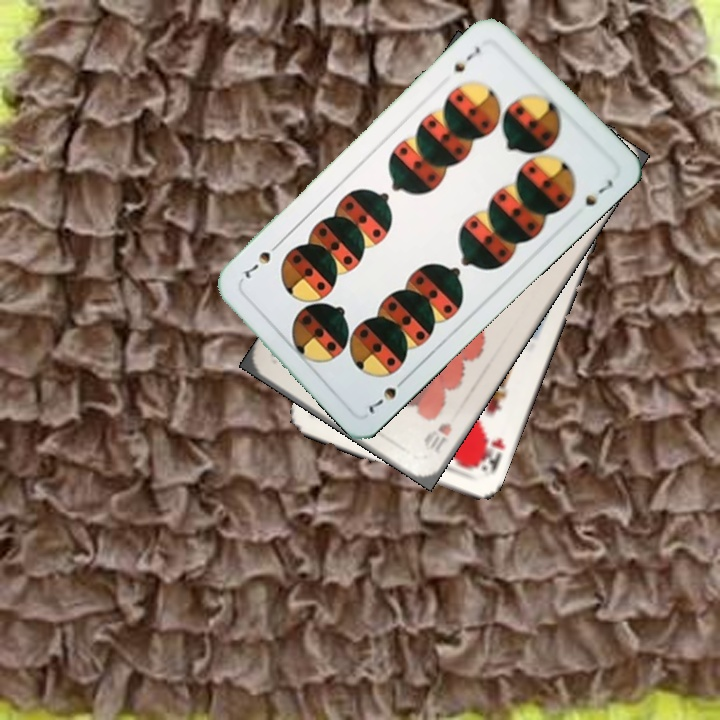H10: (420, 418, 455, 457)
HK: (471, 433, 507, 477)
S7: (364, 372, 411, 417), (450, 41, 483, 75)
